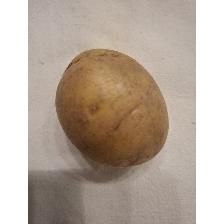Kartoffel: (54, 44, 172, 170)
